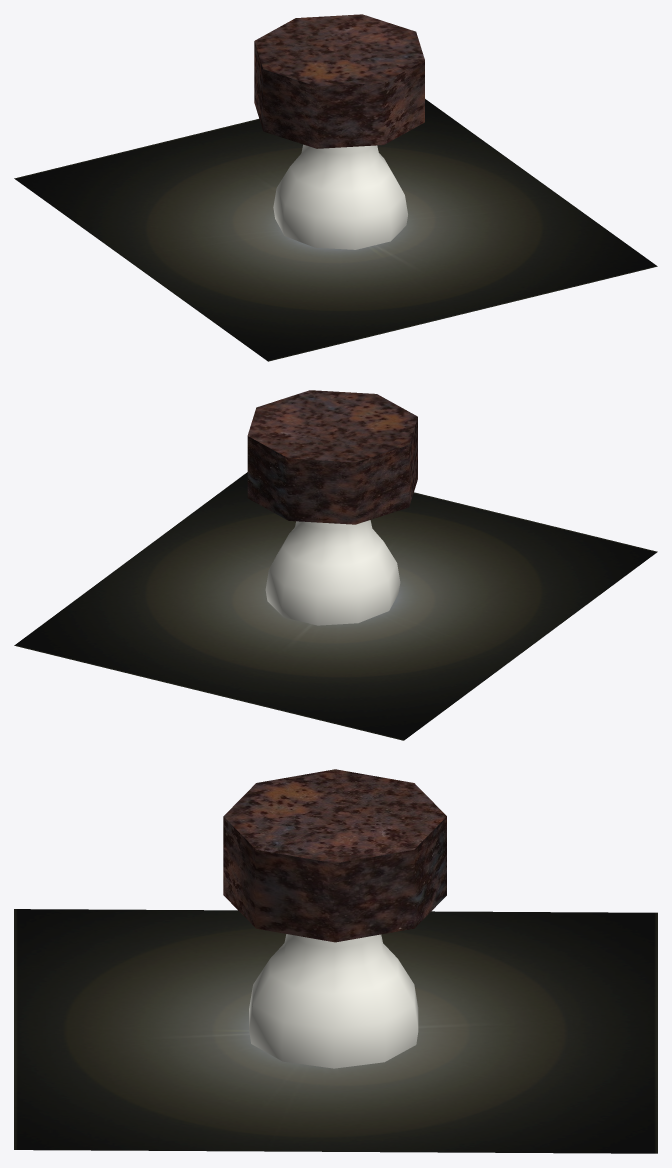
The model's file is light_3.obj.
3 views of the same model, one above another, from view 1: azimuth 30°, elevation 25°; view 2: azimuth 150°, elevation 25°; view 3: azimuth 270°, elevation 25° (orthographic). The views are drawn at different scales.
Visible parts, largest first — view 1: lensflare_1, base, bulb; view 2: lensflare_1, base, bulb; view 3: lensflare_1, base, bulb.
Boxes of the visible parts, bbox=[...] form: lensflare_1: bbox=[14, 99, 657, 361]; base: bbox=[254, 14, 424, 148]; bulb: bbox=[273, 144, 407, 249]; lensflare_1: bbox=[14, 472, 657, 740]; base: bbox=[247, 390, 417, 524]; bulb: bbox=[265, 520, 400, 625]; lensflare_1: bbox=[14, 909, 657, 1153]; base: bbox=[223, 769, 446, 942]; bulb: bbox=[249, 934, 418, 1068].
Size of the model in its own units: 21.67 by 12.25 by 24.48.
